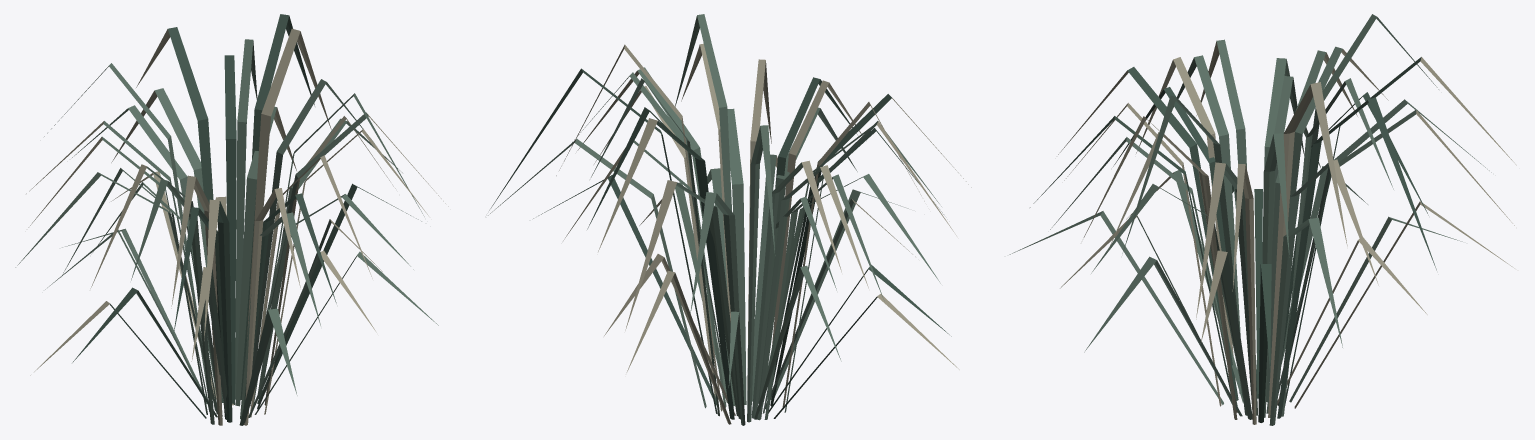
File: plant-tussock.fbx
3 views of the same model, side by side, from view 1: azimuth 30°, elevation 25°; view 2: azimuth 150°, elevation 25°; view 3: azimuth 270°, elevation 25° (orthographic). The views are drawn at different scales.
Parts seen in each view (by area): view 1: Tussock; view 2: Tussock; view 3: Tussock.
Part boxes in pixels (x1,y1,x2,y2): Tussock: (15,14,448,425); Tussock: (488,14,971,425); Tussock: (1009,14,1516,425).
Size of the model in its own units: 0.9795 by 0.7714 by 0.9678.
